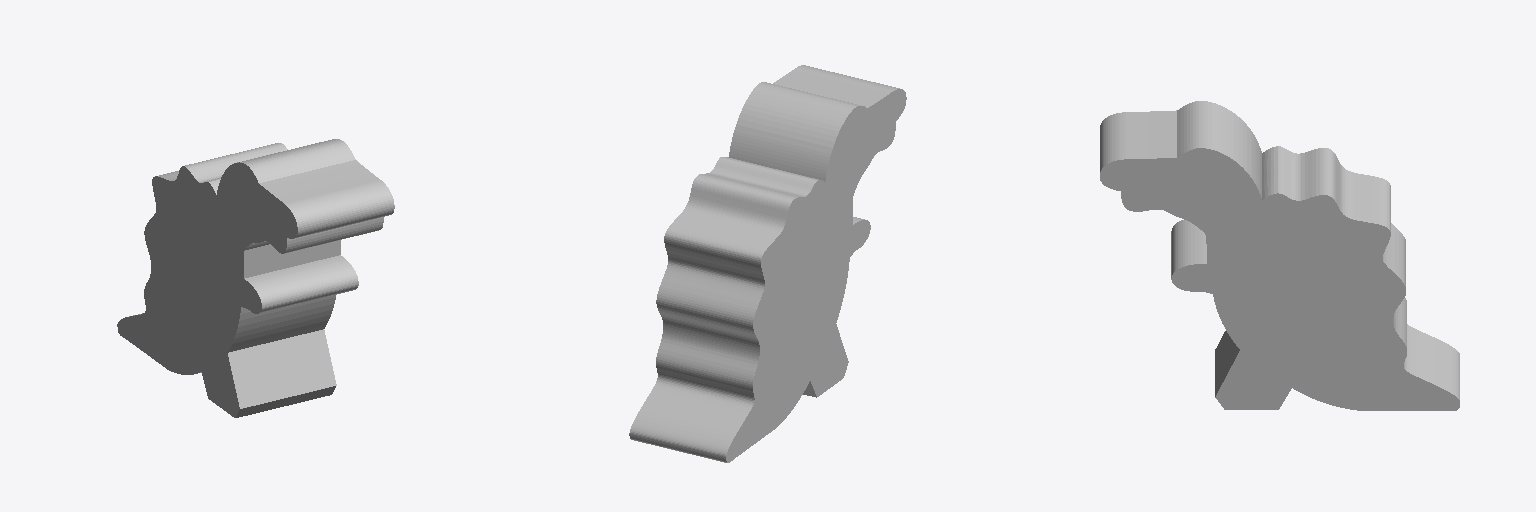
The model's file is dinoNaranja.obj.
The picture shows the model from 3 angles: view 1: azimuth 30°, elevation 25°; view 2: azimuth 150°, elevation 25°; view 3: azimuth 270°, elevation 25°; orthographic projection.
Parts seen in each view (by area): view 1: dino2-naran; view 2: dino2-naran; view 3: dino2-naran.
Boxes of the visible parts, x1=… form: dino2-naran: x1=117, y1=139, x2=394, y2=417; dino2-naran: x1=629, y1=65, x2=906, y2=462; dino2-naran: x1=1100, y1=101, x2=1459, y2=410.
Size of the model in its own units: 3.2 by 8.31 by 10.33.